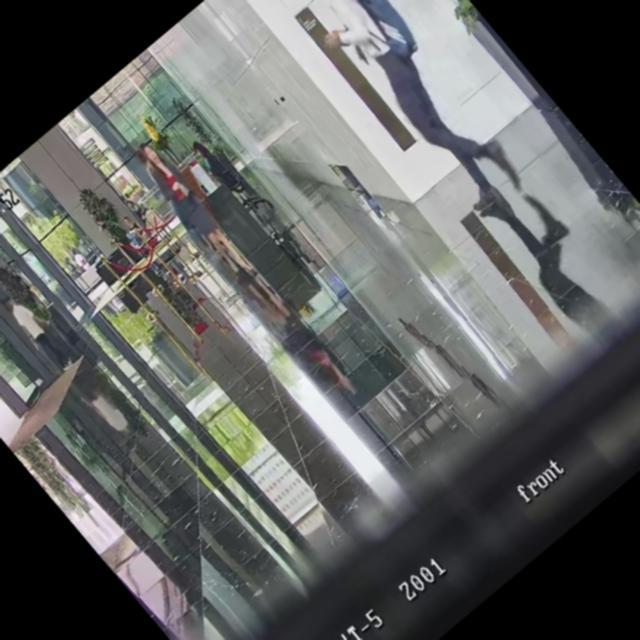person: (255, 0, 533, 225), (124, 134, 261, 286), (0, 289, 76, 375), (186, 133, 256, 210), (116, 210, 160, 258), (68, 245, 92, 271), (62, 253, 84, 277)
